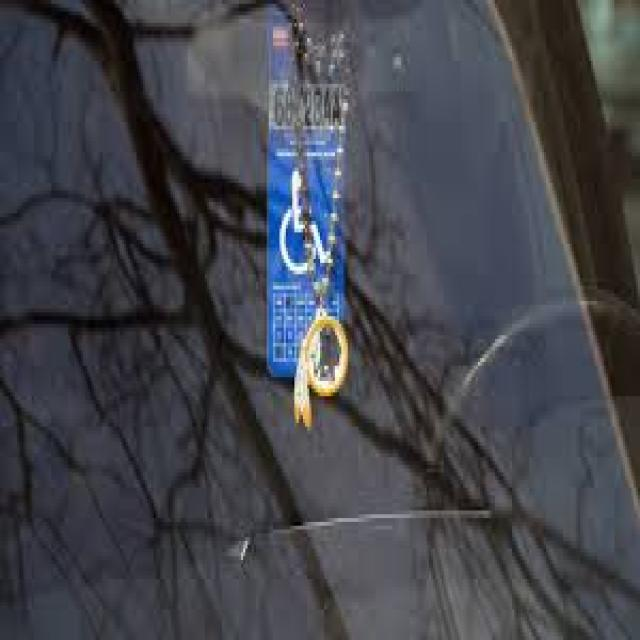car-handicap-placard: (279, 170, 332, 278)
